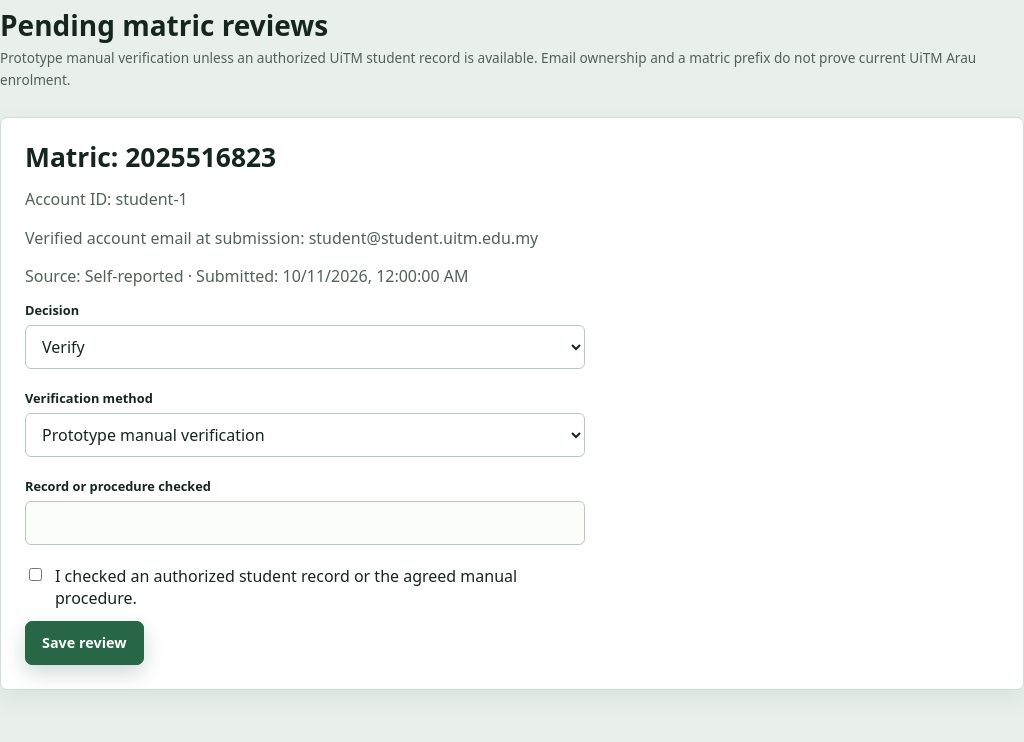
shows the pending queue and records a documented manual rejection
Check: the heading "Matric: 2025516823" is shown, box [25,140,276,176]
Select "Reject" in the dropdown labelled "Decision" at [305, 347], box [25,325,585,369]
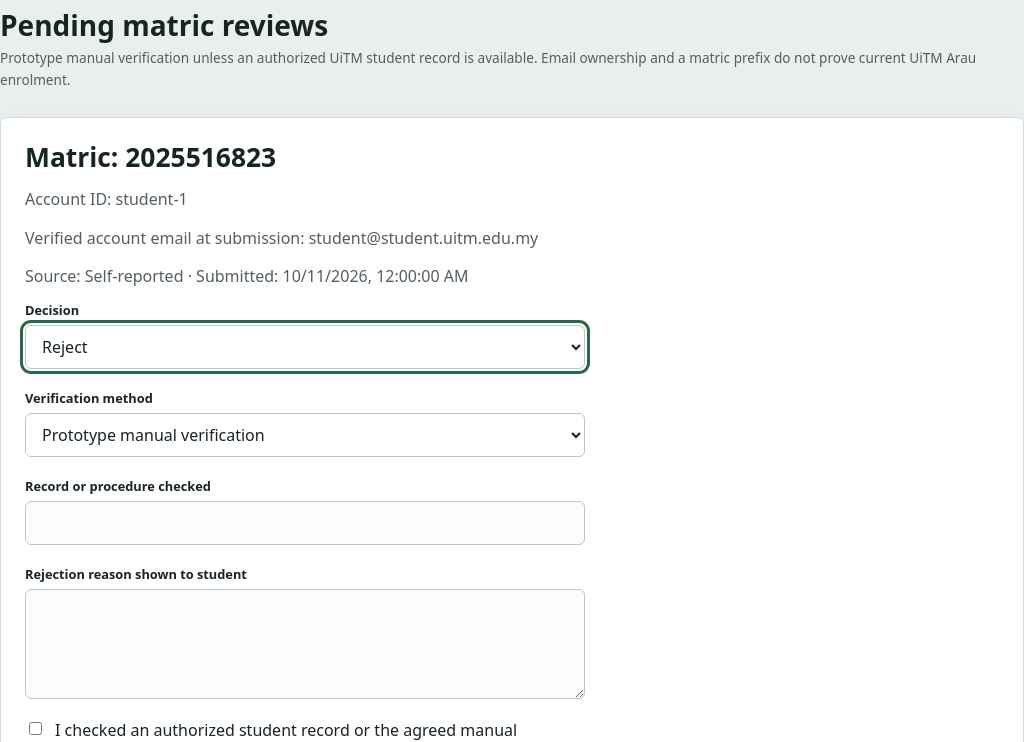
Type "Agreed register checked" into the field labelled "Record or procedure checked".
click(305, 523); type("Agreed register checked")  # box [25,501,585,545]
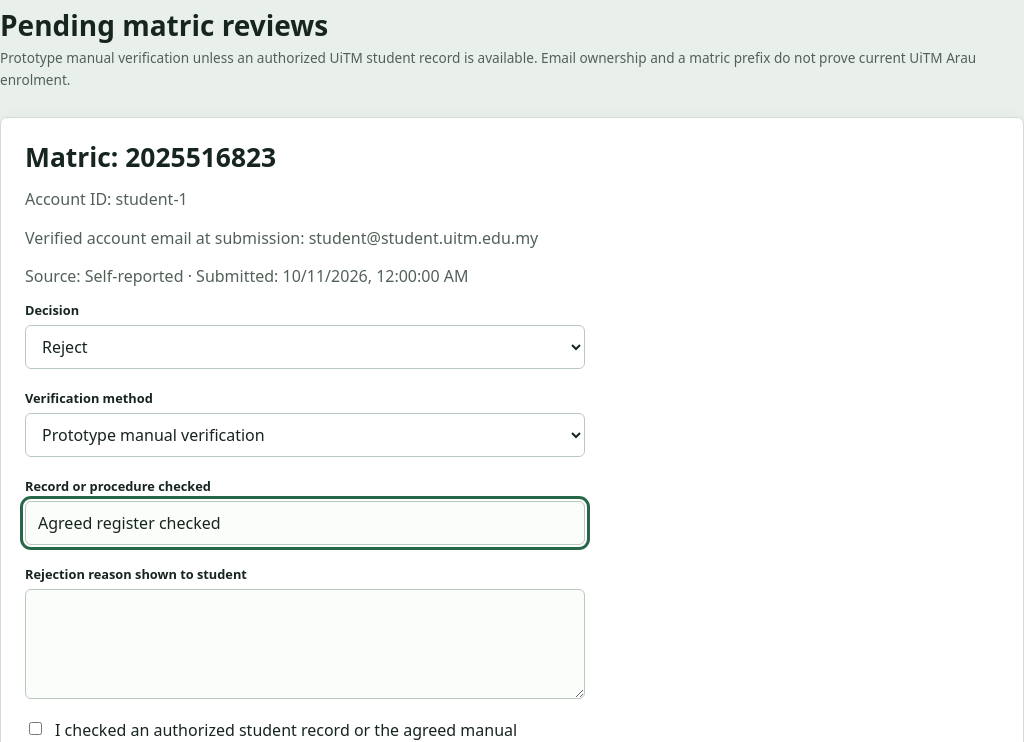
Type "Record did not match" into the text box labelled "Rejection reason shown to student".
click(305, 644); type("Record did not match")  # box [25,589,585,699]
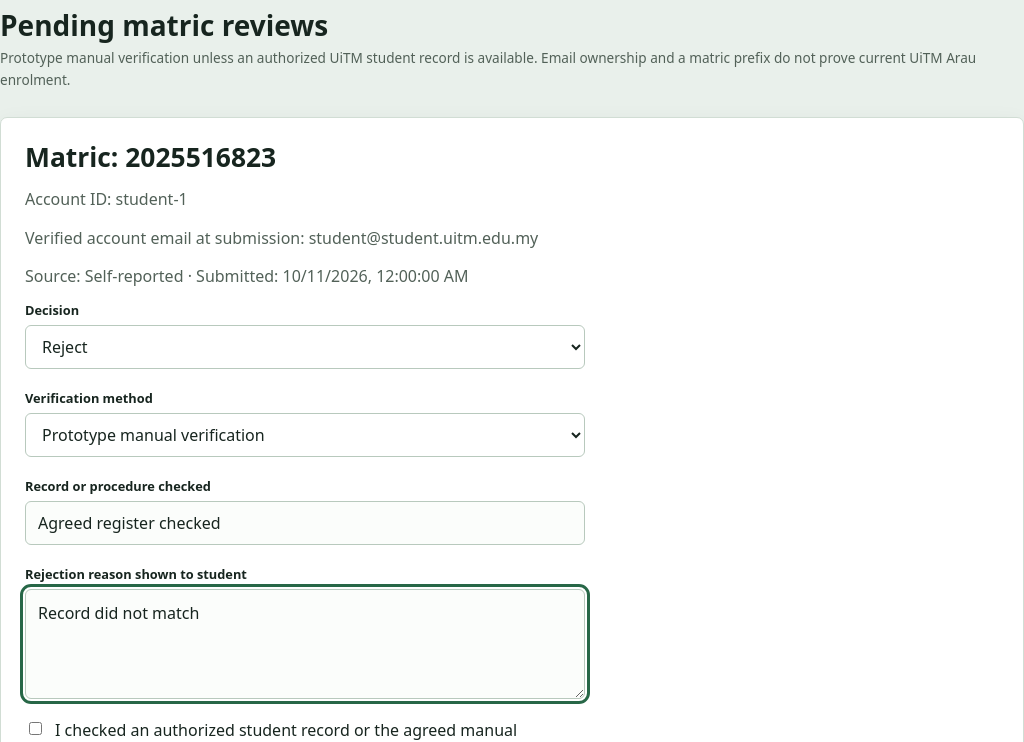
Click the checkbox.
click(36, 729)  # box [29,722,42,735]
(page scrolled)
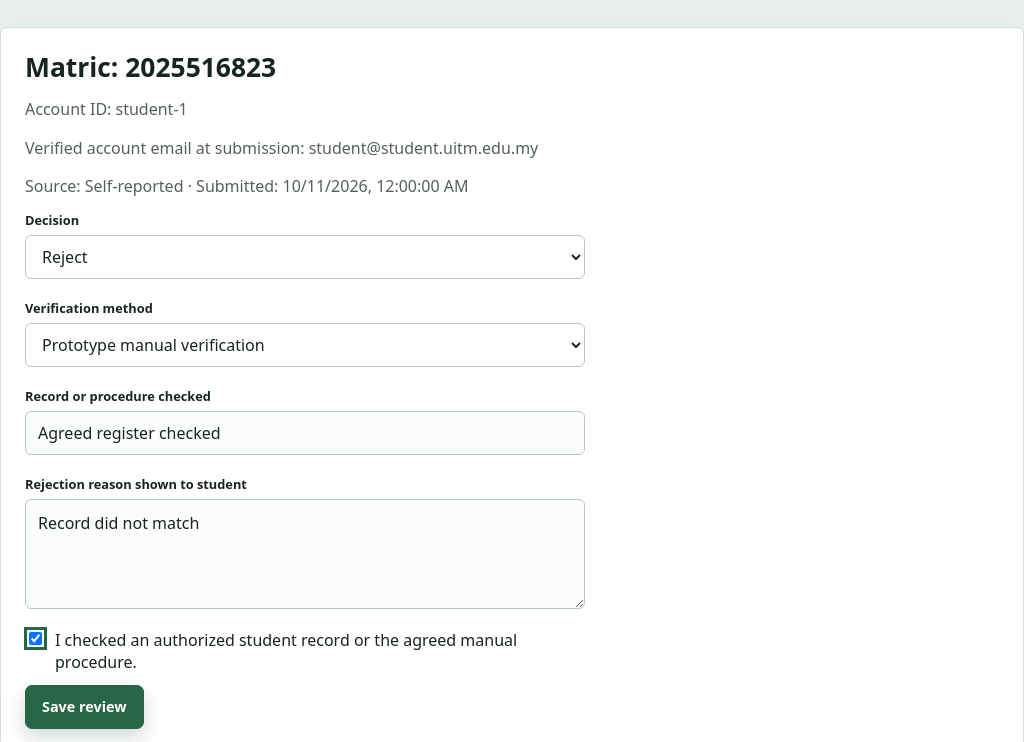
Click the button "Save review".
click(84, 707)  # box [25,685,144,729]
(page scrolled)
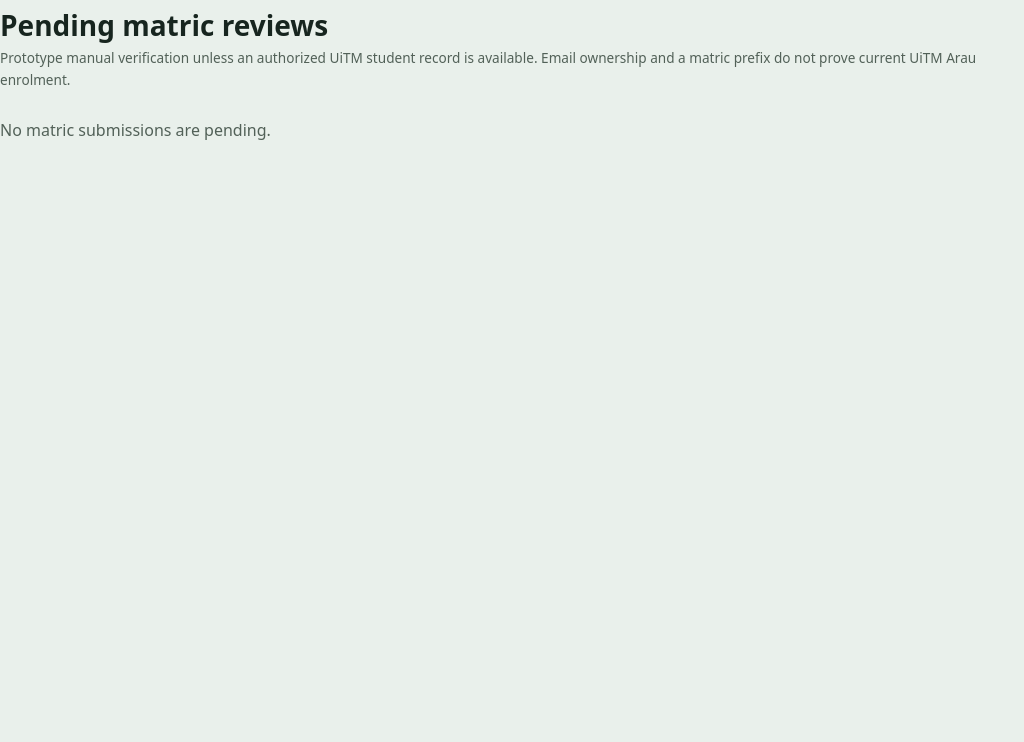
Check: the text "No matric submissions are pending." is shown, box [0,120,271,142]
